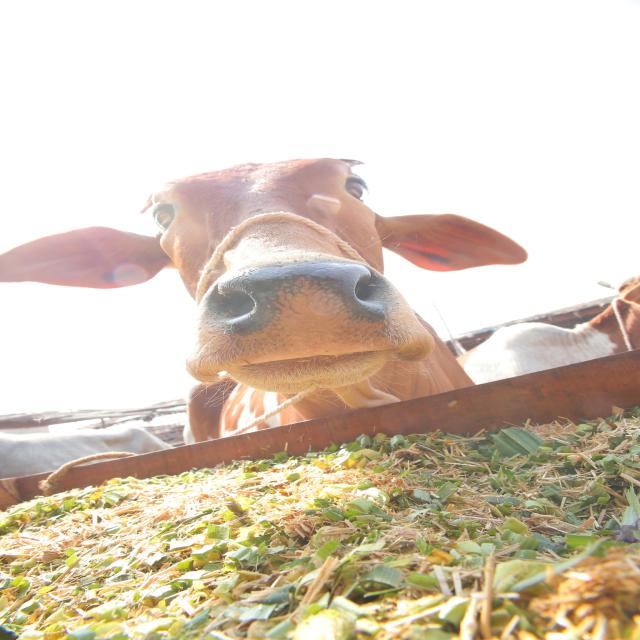muzzles: (203, 257, 408, 372)
